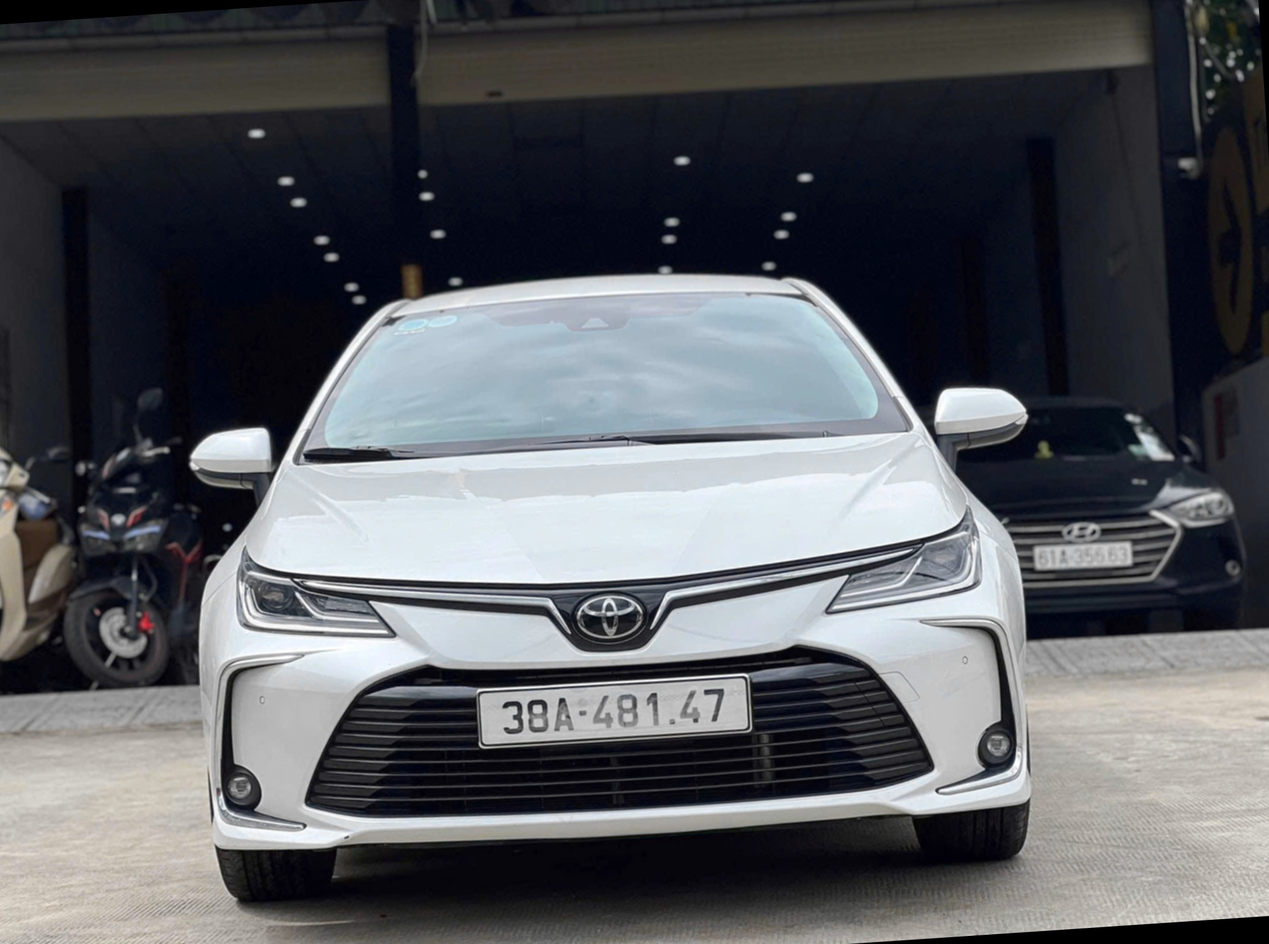Bien-so: (468, 668, 761, 755), (1032, 536, 1137, 573)
